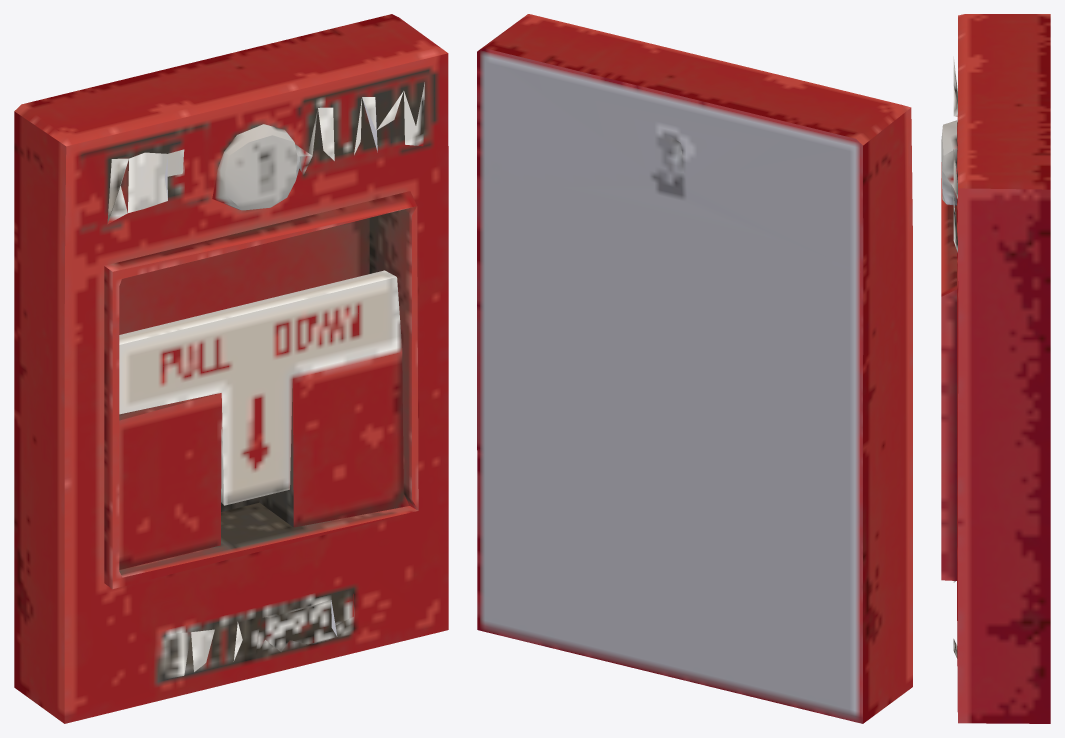
File: fire_alarm.glb
The picture shows the model from 3 angles, left to right: view 1: azimuth 30°, elevation 25°; view 2: azimuth 150°, elevation 25°; view 3: azimuth 270°, elevation 25°; orthographic projection. The views are drawn at different scales.
Visible parts, largest first — view 1: mesh; view 2: mesh; view 3: mesh.
Boxes of the visible parts, x1,y1,x2,y2 form: mesh: (14,14,448,723); mesh: (477,14,912,723); mesh: (941,14,1050,723).
Bounding box in the file's own units: 0.0994 × 0.1436 × 0.0264.
1 material, 1 textured.
